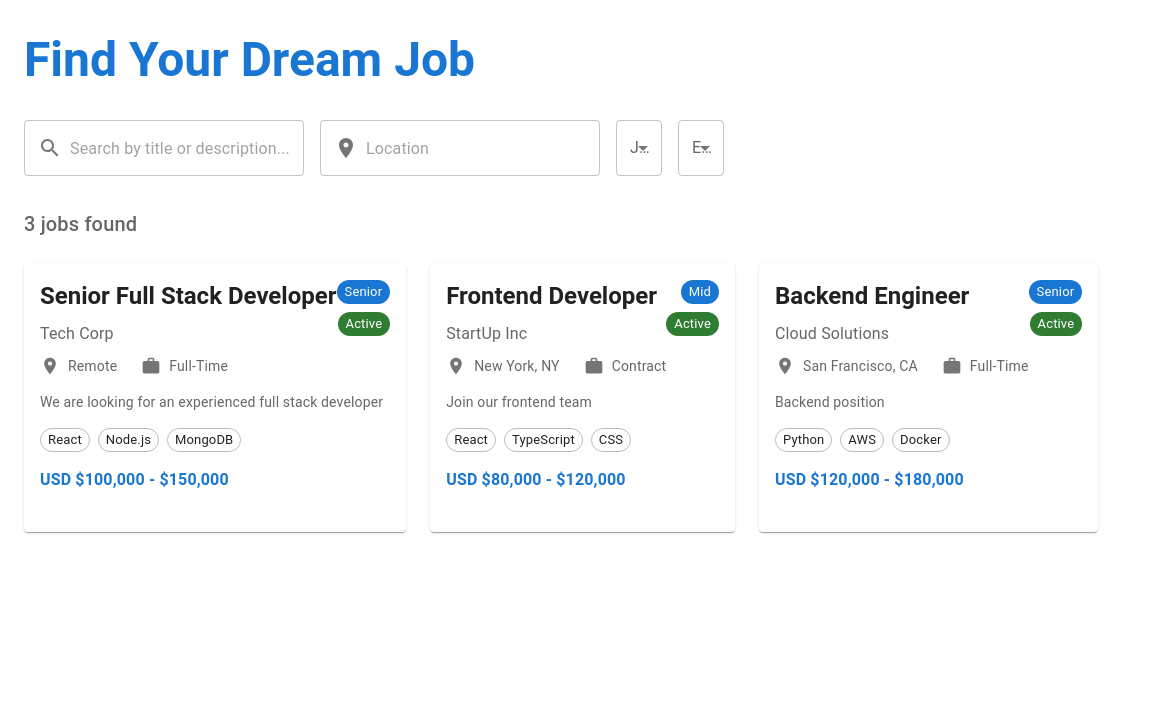
JobListings Component › shows "no jobs found" message when search has no results
expect the heading "Senior Full Stack Developer" is shown: met, box [40, 280, 336, 312]
Type "xyz123nonexistent" into the field with placeholder "Search by title or description...".
click(187, 148); type("xyz123nonexistent")  # box [70, 120, 304, 176]
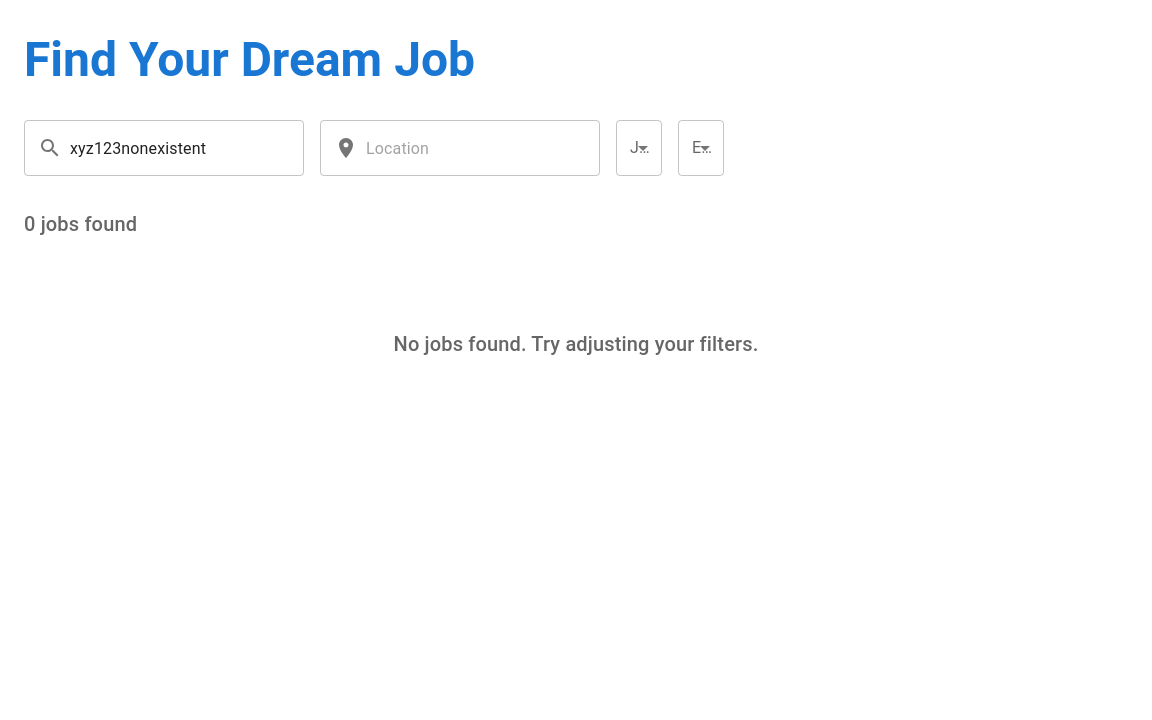
expect the heading "No jobs found. Try adjusting your filters." is shown: met, box [394, 332, 758, 356]
